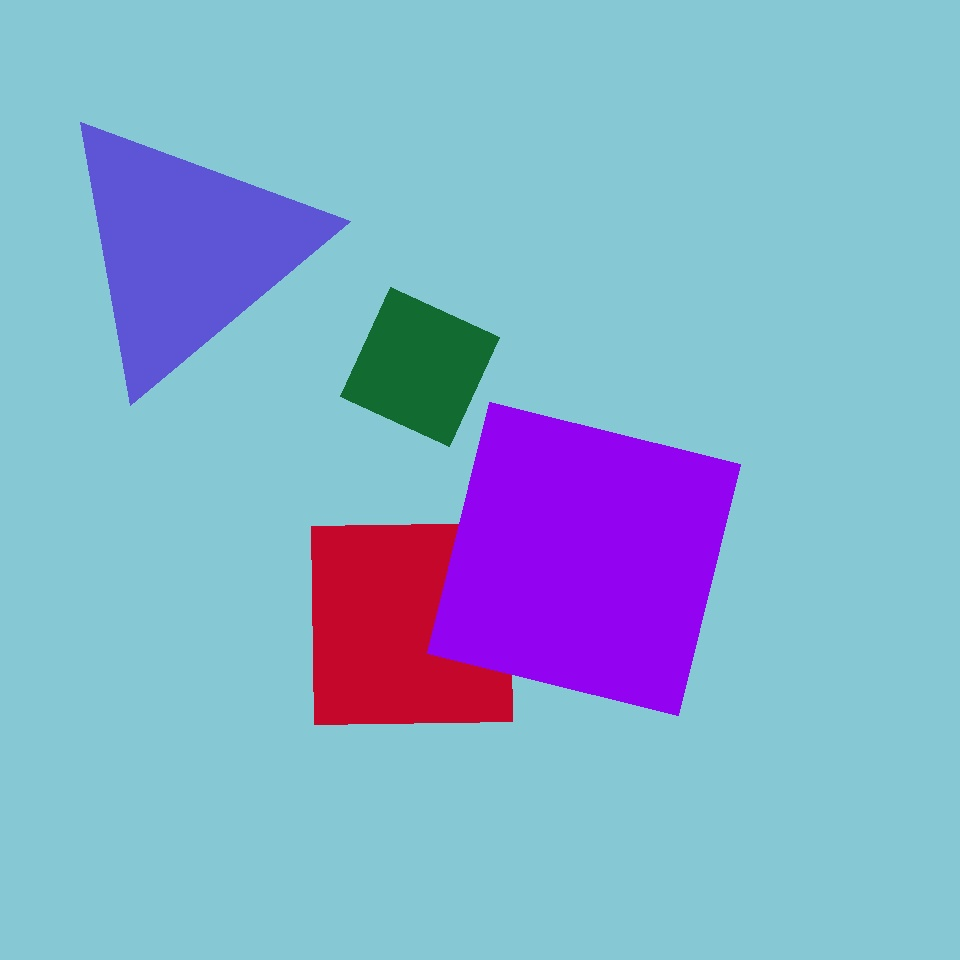circle: (116, 390, 410, 682), (52, 109, 322, 392), (393, 86, 625, 317), (480, 675, 668, 888), (137, 406, 327, 615)
square: (427, 402, 740, 716), (312, 524, 512, 725), (340, 287, 499, 446)
triangle: (277, 348, 617, 688)
